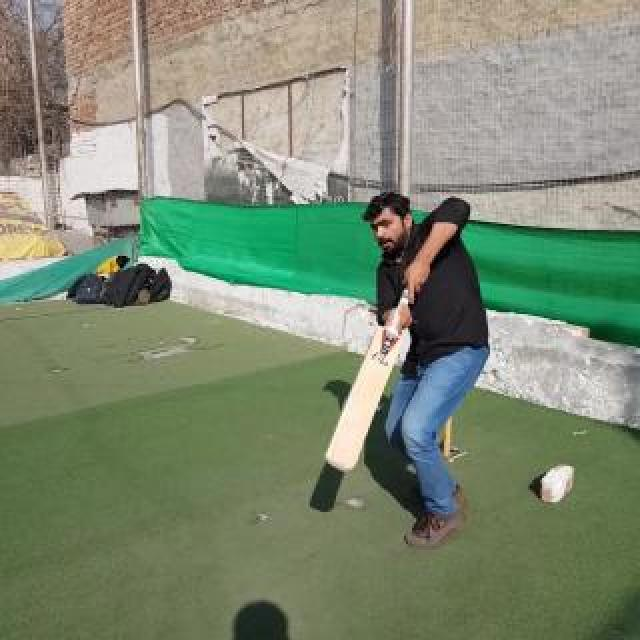bat: (325, 324, 403, 474)
